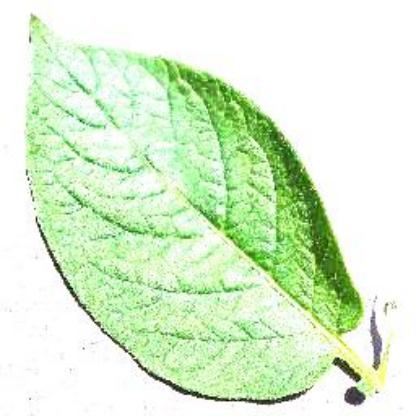Healthy-plant: (12, 10, 404, 412)
